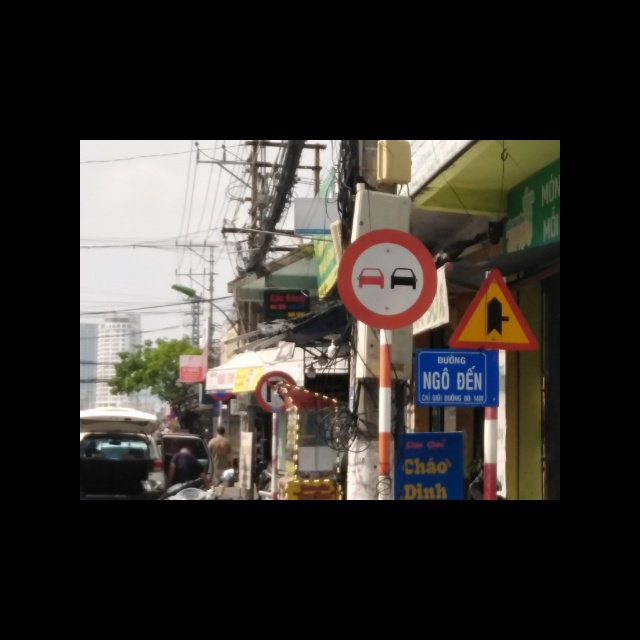Cấm vượt: (337, 226, 441, 329)
Giao nhau với đường không ưu tiên: (447, 266, 539, 352)
